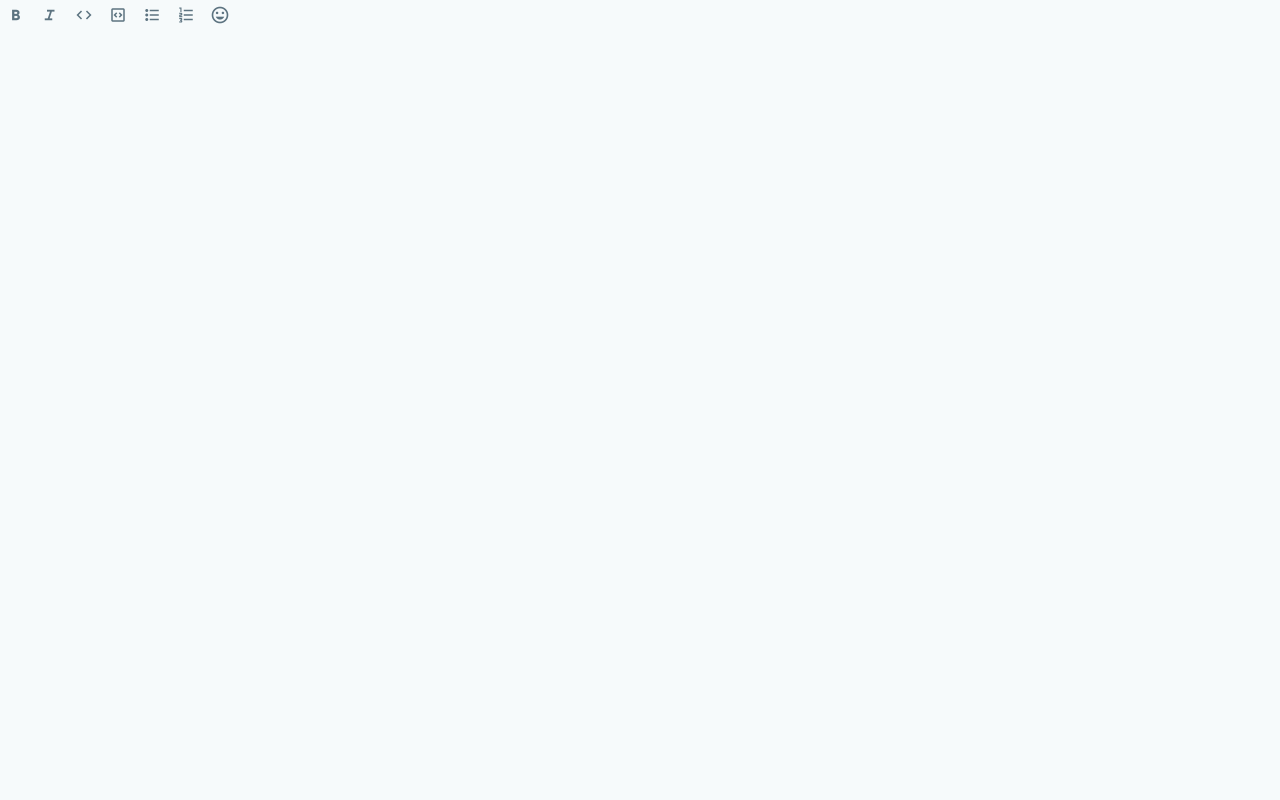
Scenario: ComposerToolbar — emoji insertion › closes on Escape and gives the editor its focus back
Step 1. Click the button with test id "toolbar-emoji-btn" → x=220, y=15, box [204,0,236,30]
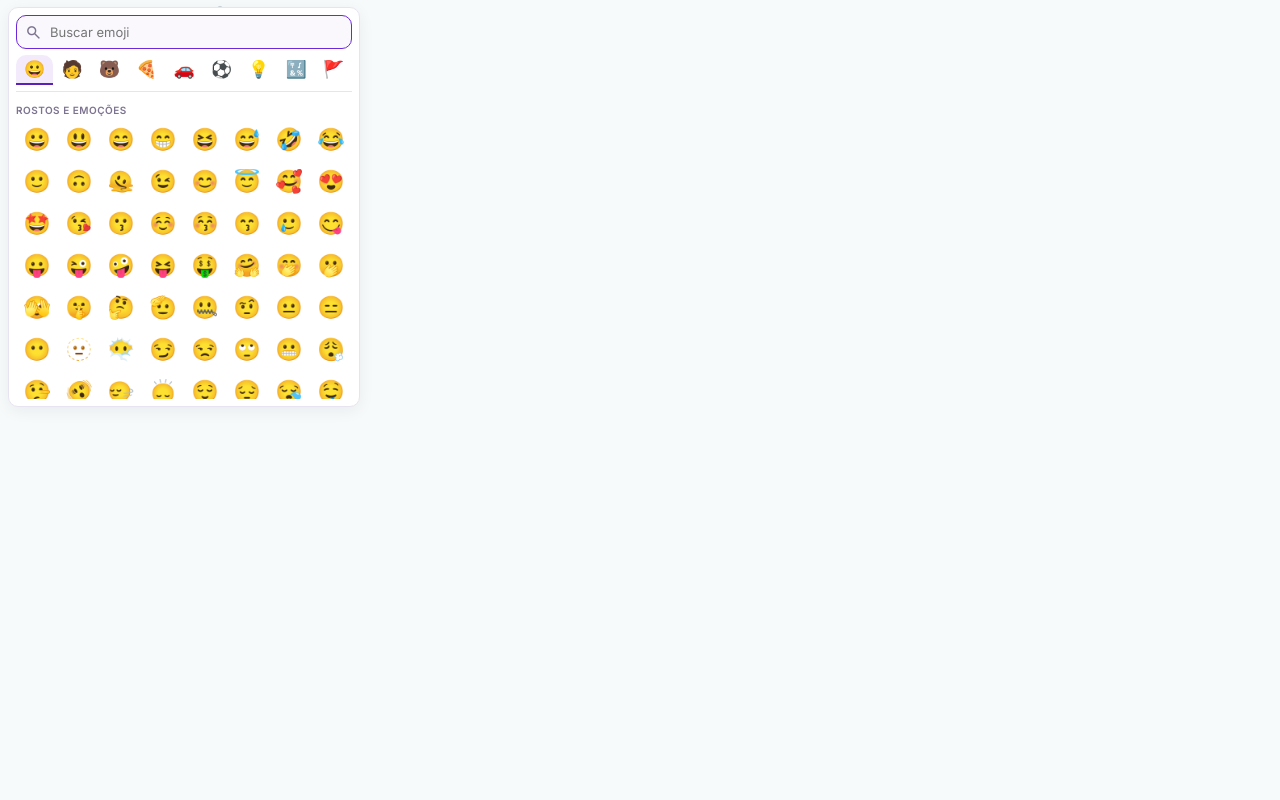
Step 2. Press Escape
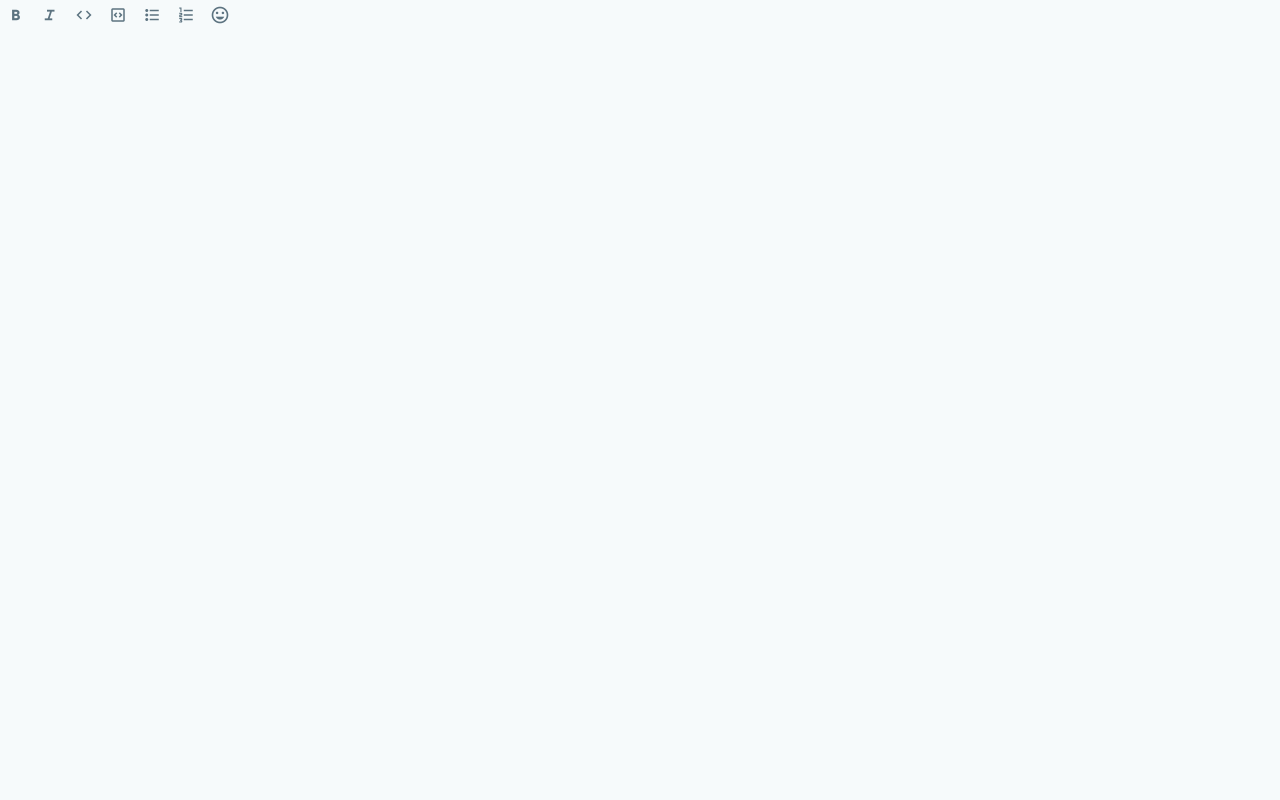
Result: the dialog with test id "toolbar-emoji-picker" is gone
